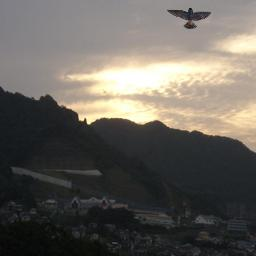Swallow: (165, 7, 212, 29)
